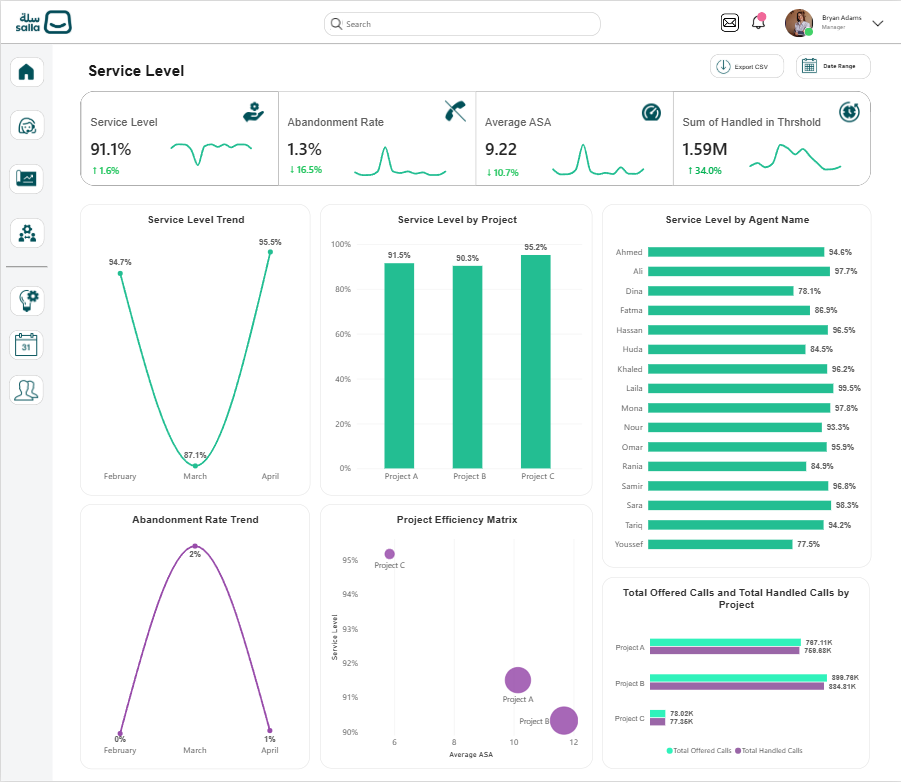

This screenshot's page, from the dashboard's own definition file:
{"tool":"powerbi","page":{"name":"Service Level & Call Performance","canvas":[1500,1300],"ordinal":2},"visuals":[{"type":"shape","box":[0,72,86,1228],"z":0},{"type":"shape","box":[0,0,1500,71.4],"z":1000},{"type":"cardVisual","fields":{"Data":["Sallah Project.Service Level %","Sallah Project.Abandonment Rate %","Sallah Project.Average ASA","Sum(Sallah Project.Calls Handled With in Thrshold)"]},"box":[132.1,150.6,1318.3,158.3],"z":2000},{"type":"image","box":[402.1,165,38,40.7],"z":3000},{"type":"image","box":[737.7,163.9,38,40.7],"z":4000},{"type":"image","box":[1064.3,165,38,40.7],"z":5000},{"type":"image","box":[1394.8,165,38,40.7],"z":6000},{"type":"lineChart","title":"Service Level Trend","fields":{"Category":["calendar date.Date.Variation.Date Hierarchy.Month"],"Y":["Sallah Project.Service Level %"]},"box":[131.4,338.6,384.3,485.7],"z":7000},{"type":"lineChart","title":"Abandonment Rate Trend","fields":{"Category":["calendar date.Date.Variation.Date Hierarchy.Month"],"Y":["Sallah Project.Abandonment Rate %"]},"box":[131.7,838.3,383.3,441.7],"z":8000},{"type":"scatterChart","title":"Project Efficiency Matrix","fields":{"Category":["Sallah Project.Project"],"Size":["Sallah Project.Total Offered Calls"],"X":["Sallah Project.Average ASA"],"Y":["Sallah Project.Service Level %"]},"box":[531.2,838.8,455,441.2],"z":9000},{"type":"image","box":[25.7,11.4,92.9,47.1],"z":10000},{"type":"image","box":[1306.7,12.5,47,46.8],"z":11000},{"type":"actionButton","box":[1357,15.5,90.5,20.5],"z":12000},{"type":"actionButton","box":[1353.5,29.5,68.5,25.5],"z":13000},{"type":"image","box":[1448,25,26,22],"z":14000},{"type":"shape","box":[1337.7,43.1,16.2,15.9],"z":15000},{"type":"image","box":[1248.8,18.8,27.5,35],"z":16000},{"type":"image","box":[1196.2,20,36.4,32.1],"z":17000},{"type":"shape","box":[1260.8,18.8,16,16],"z":18000},{"type":"actionButton","box":[538.9,18.9,461.2,40],"z":19000},{"type":"shape","box":[0,65.3,1500,12],"z":20000},{"type":"actionButton","box":[14.5,92.7,57.1,50],"z":21000},{"type":"image","box":[22.3,100.9,41.7,33.3],"z":22000},{"type":"actionButton","box":[14.2,182.3,57.5,50],"z":23000},{"type":"image","box":[22.5,190.8,41.7,33.3],"z":24000},{"type":"actionButton","box":[13.6,271.8,57.5,50],"z":25000},{"type":"image","box":[21.2,280,41.7,33.3],"z":26000},{"type":"shape","box":[8.3,437.2,68.9,12.2],"z":27000},{"type":"actionButton","box":[14.4,362.2,57.5,50],"z":28000},{"type":"image","box":[22.5,370,41.7,33.3],"z":29000},{"type":"actionButton","box":[15,475,57.5,50],"z":30000},{"type":"actionButton","box":[13.8,548.8,57.5,50],"z":31000},{"type":"image","title":"month filter","box":[20,554,44.7,40],"z":32000},{"type":"actionButton","box":[14,622.7,57.5,50],"z":33000},{"type":"image","title":"filter agent2","box":[20.7,628,44.7,40],"z":34000},{"type":"image","title":"project filtr","box":[22.7,480,44.7,40],"z":35000},{"type":"actionButton","box":[131.4,88.6,192.2,56.7],"z":36000},{"type":"lineChart","title":"Service Level Trend","fields":{"Category":["Sallah Project.Week Number"],"Y":["Sallah Project.Service Level %"]},"box":[246.5,215,218.3,93.3],"z":43000},{"type":"lineChart","title":"Abandonment Rate Trend","fields":{"Category":["Sallah Project.Week Number"],"Y":["Sallah Project.Abandonment Rate %"]},"box":[551.5,205,240,103.3],"z":44000},{"type":"lineChart","title":"Abandonment Rate Trend","fields":{"Category":["Sallah Project.Week Number"],"Y":["Sallah Project.Average ASA"]},"box":[881.5,205,240,103.3],"z":45000},{"type":"lineChart","title":"Abandonment Rate Trend","fields":{"Category":["Sallah Project.Week Number"],"Y":["Sallah Project.Total Handled Calls"]},"box":[1209.9,205,240,103.3],"z":46000},{"type":"actionButton","title":"date hover","box":[1325.5,88,124.6,41.5],"z":47000},{"type":"image","title":"date icon","box":[1333.4,95.5,28.2,26.5],"z":48000},{"type":"actionButton","title":"date word","box":[1358.4,95,83,26],"z":49000},{"type":"actionButton","box":[1181.8,89.1,123.8,40],"z":50000},{"type":"image","box":[1191.2,95,25,28],"z":51000},{"type":"actionButton","box":[1210,96.3,81.4,25.7],"z":52000},{"type":"clusteredColumnChart","title":"Service Level by Project","fields":{"Category":["Sallah Project.Project"],"Y":["Sallah Project.Service Level %"]},"box":[531.4,338.6,454.3,485.7],"z":56000},{"type":"clusteredBarChart","fields":{"Category":["Sallah Project.Project"],"Y":["Sallah Project.Total Offered Calls","Sallah Project.Total Handled Calls"]},"box":[1001.4,960,445.7,320],"z":57000},{"type":"barChart","fields":{"Category":["Sallah Project.Agent Name"],"Y":["Sallah Project.Service Level %"]},"box":[1001.4,338.6,448.6,605.7],"z":58000},{"type":"card","fields":{"Values":["Sallah Project.Service Level Trend"]},"box":[132.1,261.4,85.7,47.9],"z":58001},{"type":"card","fields":{"Values":["Sallah Project.Abandonment Trend"]},"box":[464.4,260,86.2,48.1],"z":58002},{"type":"card","fields":{"Values":["Sallah Project.ASA Trend"]},"box":[792.2,263.3,88.8,43.8],"z":58003},{"type":"card","fields":{"Values":["Sallah Project.Handled Within Threshold Trend"]},"box":[1121.1,262.2,102.5,46.2],"z":58004}]}

Visuals, with their boxes on the page's 1500x1300 design canvas (x1, y1, x2, y2). These are canvas units, not pixel positions in the 901x782 screenshot, which may show the page scaled, cropped or inside an application window:
shape: [left=0, top=72, right=86, bottom=1300]
shape: [left=0, top=0, right=1500, bottom=71]
cardVisual - Sallah Project.Service Level % x Sallah Project.Abandonment Rate %: [left=132, top=151, right=1450, bottom=309]
image: [left=402, top=165, right=440, bottom=206]
image: [left=738, top=164, right=776, bottom=205]
image: [left=1064, top=165, right=1102, bottom=206]
image: [left=1395, top=165, right=1433, bottom=206]
"Service Level Trend" lineChart: [left=131, top=339, right=516, bottom=824]
"Abandonment Rate Trend" lineChart: [left=132, top=838, right=515, bottom=1280]
"Project Efficiency Matrix" scatterChart: [left=531, top=839, right=986, bottom=1280]
image: [left=26, top=11, right=119, bottom=58]
image: [left=1307, top=12, right=1354, bottom=59]
actionButton: [left=1357, top=16, right=1448, bottom=36]
actionButton: [left=1354, top=30, right=1422, bottom=55]
image: [left=1448, top=25, right=1474, bottom=47]
shape: [left=1338, top=43, right=1354, bottom=59]
image: [left=1249, top=19, right=1276, bottom=54]
image: [left=1196, top=20, right=1233, bottom=52]
shape: [left=1261, top=19, right=1277, bottom=35]
actionButton: [left=539, top=19, right=1000, bottom=59]
shape: [left=0, top=65, right=1500, bottom=77]
actionButton: [left=14, top=93, right=72, bottom=143]
image: [left=22, top=101, right=64, bottom=134]
actionButton: [left=14, top=182, right=72, bottom=232]
image: [left=22, top=191, right=64, bottom=224]
actionButton: [left=14, top=272, right=71, bottom=322]
image: [left=21, top=280, right=63, bottom=313]
shape: [left=8, top=437, right=77, bottom=449]
actionButton: [left=14, top=362, right=72, bottom=412]
image: [left=22, top=370, right=64, bottom=403]
actionButton: [left=15, top=475, right=72, bottom=525]
actionButton: [left=14, top=549, right=71, bottom=599]
"month filter" image: [left=20, top=554, right=65, bottom=594]
actionButton: [left=14, top=623, right=72, bottom=673]
"filter agent2" image: [left=21, top=628, right=65, bottom=668]
"project filtr" image: [left=23, top=480, right=67, bottom=520]
actionButton: [left=131, top=89, right=324, bottom=145]
"Service Level Trend" lineChart: [left=246, top=215, right=465, bottom=308]
"Abandonment Rate Trend" lineChart: [left=552, top=205, right=792, bottom=308]
"Abandonment Rate Trend" lineChart: [left=882, top=205, right=1122, bottom=308]
"Abandonment Rate Trend" lineChart: [left=1210, top=205, right=1450, bottom=308]
"date hover" actionButton: [left=1326, top=88, right=1450, bottom=130]
"date icon" image: [left=1333, top=96, right=1362, bottom=122]
"date word" actionButton: [left=1358, top=95, right=1441, bottom=121]
actionButton: [left=1182, top=89, right=1306, bottom=129]
image: [left=1191, top=95, right=1216, bottom=123]
actionButton: [left=1210, top=96, right=1291, bottom=122]
"Service Level by Project" clusteredColumnChart: [left=531, top=339, right=986, bottom=824]
clusteredBarChart - Sallah Project.Project x Sallah Project.Total Offered Calls: [left=1001, top=960, right=1447, bottom=1280]
barChart - Sallah Project.Agent Name x Sallah Project.Service Level %: [left=1001, top=339, right=1450, bottom=944]
card - Sallah Project.Service Level Trend: [left=132, top=261, right=218, bottom=309]
card - Sallah Project.Abandonment Trend: [left=464, top=260, right=551, bottom=308]
card - Sallah Project.ASA Trend: [left=792, top=263, right=881, bottom=307]
card - Sallah Project.Handled Within Threshold Trend: [left=1121, top=262, right=1224, bottom=308]
